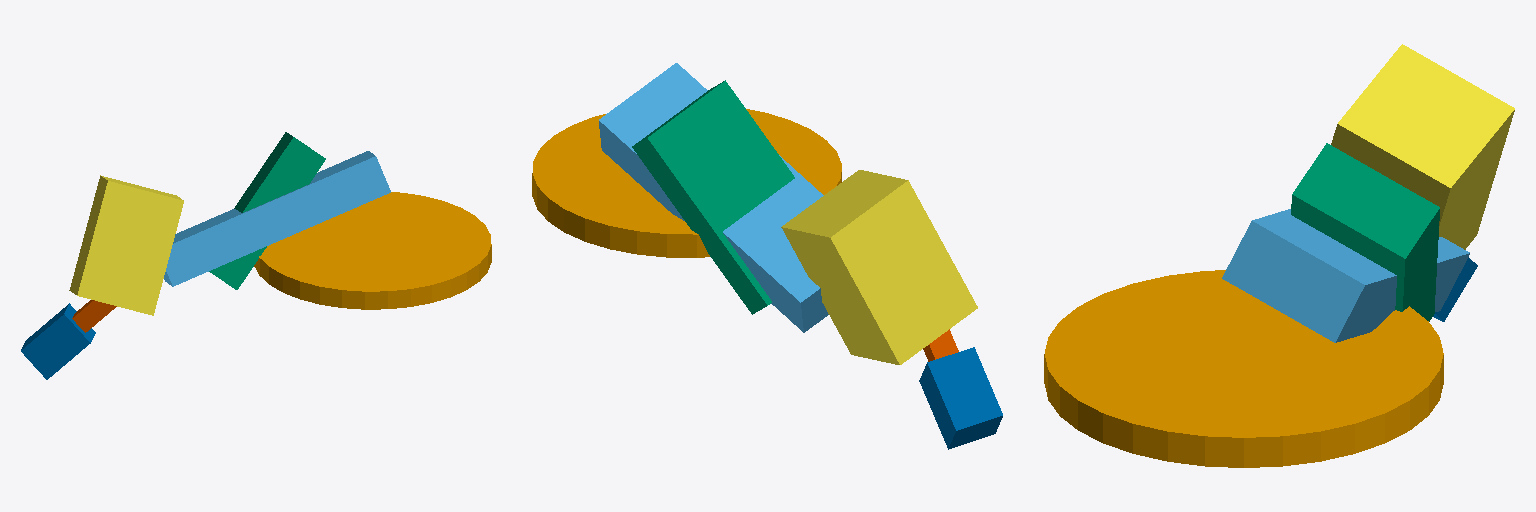
robot.urdf — procyon:
<?xml version="1.0"?>
<robot name="procyon">

  <link name="base_link">
    <origin xyz="-0.470715532388592 0.00817143616602599 -0.217249122899845" rpy="0 0 0" />
      <visual>
        <geometry>
          <cylinder length=".05" radius=".3"/>
        </geometry>
      </visual>
  </link>

  <joint name="base-plate" type="fixed">
    <parent link="base_link"/>
    <child link="lower_arm"/>
     <origin xyz="-0.20712 0.15338 0.074139" rpy="1.9612 0.3394 2.8578" />
  </joint>

  <link name="lower_arm">
    <origin xyz="0.13884061912792 0.0584236819656761 -0.022225004530128" rpy="0 0 0" />
    <visual>
      <geometry>
        <box size="0.6 0.1 0.2"/>
      </geometry>
    </visual>
  </link>

  <joint name="lowerupper_arm" type="revolute">
    <parent link="lower_arm"/>
    <child link="upper_arm"/>
    <origin xyz="0.0127 0.0254 0.0127" rpy="3.1416 1.2941E-15 2.5708" />
    <axis xyz="0 0 1"/>
    <limit effort="1000.0" lower="0.0" upper="0.4" velocity="0.25"/>
  </joint>

  <link name="upper_arm">
    <origin xyz="-0.157286210361564 0.144496495793153 0.0349249907336261" rpy="0 0 0" />
    <visual>
      <geometry>
        <box size="0.4 0.1 0.2"/>
      </geometry>
    </visual>
  </link>

  <joint name="upper-wrist" type="revolute">
    <parent link="upper_arm"/>
    <child link="wrist"/>
    <origin xyz="-0.26154 0.24093 0.0635" rpy="-3.1416 1.8319E-15 -1.2356" />
    <limit effort="100.0" lower="0.0" upper="0.4" velocity="0.25"/>
  </joint>

  <link name="wrist">
    <origin xyz="-0.0739953753431454 0.107500470601272 0.0285750052716065" rpy="0 0 0" />
    <visual>
      <geometry>
        <box size="0.2 0.3 0.2"/>
      </geometry>
    </visual>
  </link>

  <joint name="wrist-hand" type="revolute">
    <parent link="wrist"/>
    <child link="hand"/>
    <origin xyz="-0.10247 0.27897 0.022118" rpy="-1.4491E-14 -1.2593 -0.99779" />
    <limit effort="100.0" lower="0.0" upper="0.4" velocity="0.25"/>
  </joint>

  <link name="hand">
    <origin xyz="-0.157286210361564 0.144496495793153 0.0349249907336261" rpy="0 0 0" />
    <visual>
      <geometry>
        <box size="0.1 0.1 0.15"/>
      </geometry>
    </visual>
  </link>

  <joint name="hand-grip" type="prismatic">
    <parent link="hand"/>
    <child link="grip"/>
    <origin xyz="0 0 -0.08255" rpy="-1.1102E-15 0 2.1649E-15" />
    <limit effort="100.0" lower="0.0" upper="0.4" velocity="0.25"/>
  </joint>


  <link name="grip">
    <origin xyz="0.0190457064181672 0.0343360869456164 -0.0380957579667052" rpy="0 0 0" />
    <visual>
      <geometry>
        <box size="0.05 0.05 0.25"/>
      </geometry>
    </visual>
  </link>


  
</robot>

--- What the picture shows (computed from the rendered views, not written in the file) ---
3 views of the same robot in one strip: view 1: azimuth 30°, elevation 25°; view 2: azimuth 150°, elevation 25°; view 3: azimuth 270°, elevation 25° (orthographic).
Robot: procyon — 6 links, 5 joints (3 revolute, 1 prismatic, 1 fixed); root link base_link; default pose: every joint at zero.
Visible links, largest first — view 1: base_link, wrist, lower_arm, upper_arm, hand, grip; view 2: wrist, base_link, upper_arm, lower_arm, hand, grip; view 3: base_link, wrist, lower_arm, upper_arm, hand.
Link boxes in pixels (bbox=[...]): base_link: bbox=[254, 192, 491, 309]; wrist: bbox=[69, 175, 183, 315]; lower_arm: bbox=[164, 151, 390, 286]; upper_arm: bbox=[209, 132, 325, 289]; hand: bbox=[21, 303, 95, 379]; grip: bbox=[72, 300, 116, 332]; wrist: bbox=[781, 170, 977, 364]; base_link: bbox=[532, 109, 841, 257]; upper_arm: bbox=[632, 80, 794, 314]; lower_arm: bbox=[599, 63, 828, 332]; hand: bbox=[919, 347, 1002, 449]; grip: bbox=[923, 329, 958, 361]; base_link: bbox=[1044, 270, 1443, 467]; wrist: bbox=[1331, 44, 1514, 249]; lower_arm: bbox=[1222, 209, 1469, 342]; upper_arm: bbox=[1291, 143, 1439, 321]; hand: bbox=[1433, 257, 1477, 321].
Bounding box of the posed robot: 1.16 × 0.7079 × 0.5772 m (x, y, z).
Geometry: primitives only (box / cylinder / sphere), no mesh files.